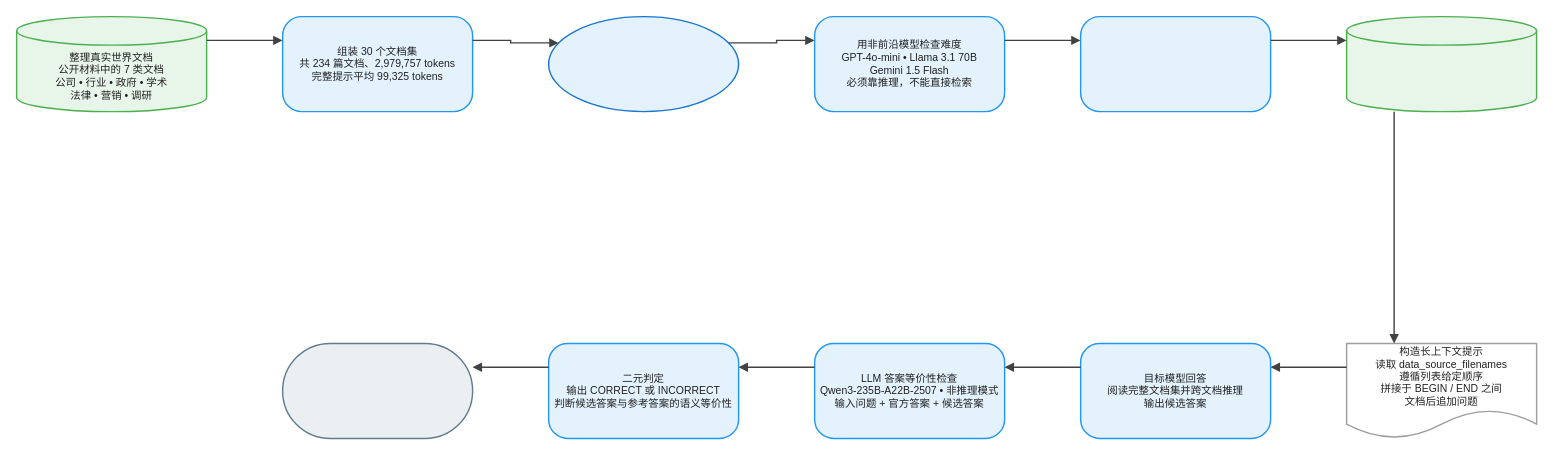
Image size: 1554x456. Some labels were removed from this diagram. The shapes that lost their labels are listed below. From the top down, each one's centre as x and y in pixels, then its label:
At pixel 643 63: "人工编写问题 团队成员 + 受聘本科生 多文档通用 / 数学推理 面向真实场景".
At pixel 1175 63: "人工验证答案 基于同一文档独立解题 失败项修改或丢弃 每道保留题至少 1 人解出".
At pixel 1441 63: "发布 AA-LCR 30 个文档集共 100 道题 官方答案 + 按顺序提取的文档".
At pixel 377 390: "AA-LCR 结果 100 道题上的准确率 报告长上下文多文档推理能力".
